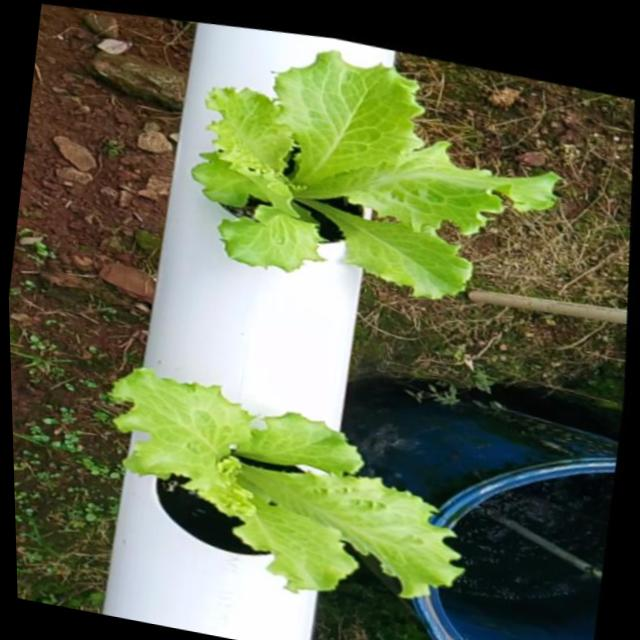Baby: (191, 50, 559, 301), (110, 373, 463, 603)
